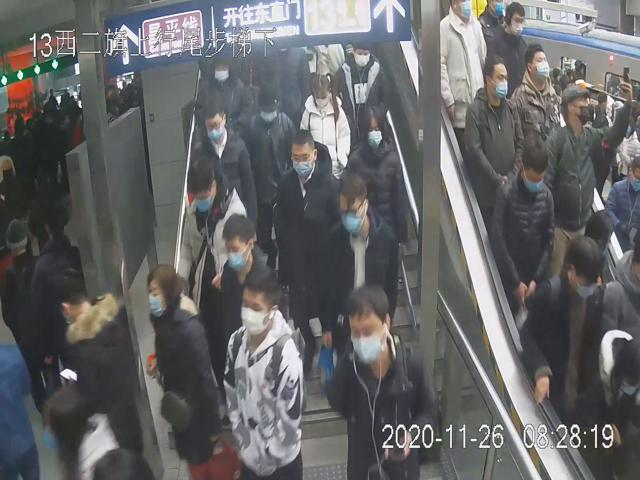person: (323, 277, 440, 480), (221, 260, 312, 480), (145, 260, 226, 480), (321, 172, 399, 359), (172, 149, 251, 328), (204, 214, 282, 372), (489, 140, 556, 323), (340, 102, 411, 266), (271, 128, 343, 288), (464, 48, 523, 231), (187, 99, 258, 249), (244, 86, 299, 273), (298, 64, 353, 181)
